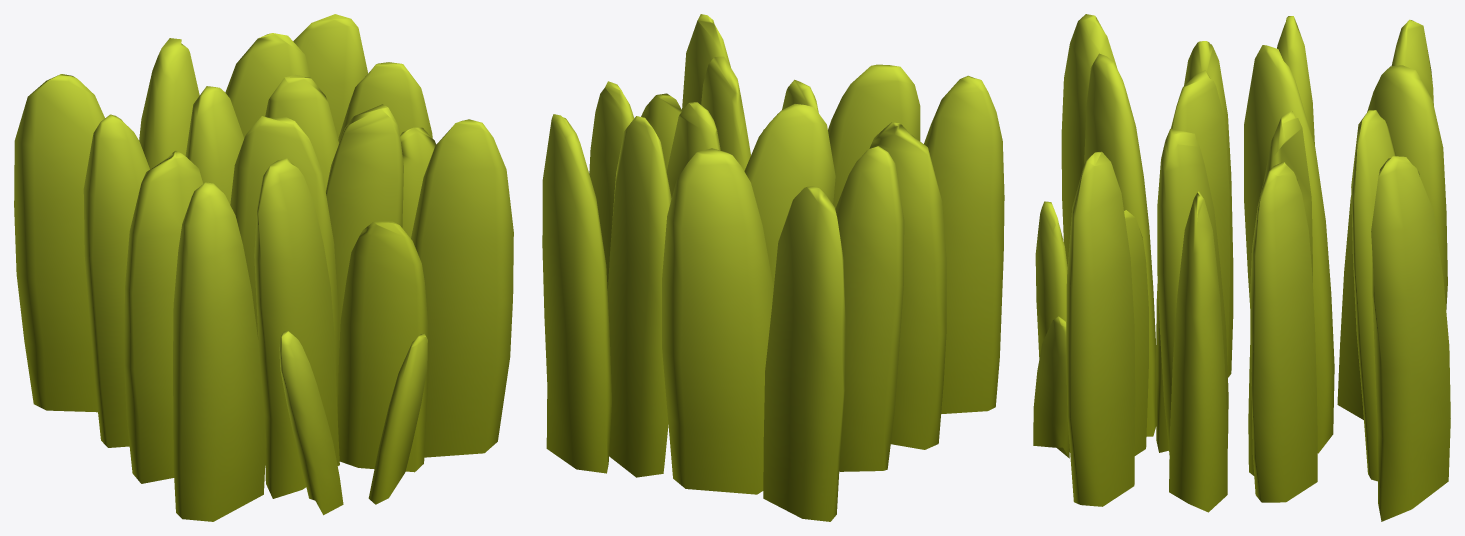
File: Grass2.fbx
The picture shows the model from 3 angles, left to right: view 1: azimuth 30°, elevation 25°; view 2: azimuth 150°, elevation 25°; view 3: azimuth 270°, elevation 25°; orthographic projection. The views are drawn at different scales.
Visible parts, largest first — view 1: Grass2; view 2: Grass2; view 3: Grass2.
Boxes of the visible parts, <box> form: Grass2: <box>14,14,513,521</box>; Grass2: <box>542,14,1004,521</box>; Grass2: <box>1033,14,1450,521</box>.
Bounding box in the file's own units: 35.66 × 35.9 × 36.24.
